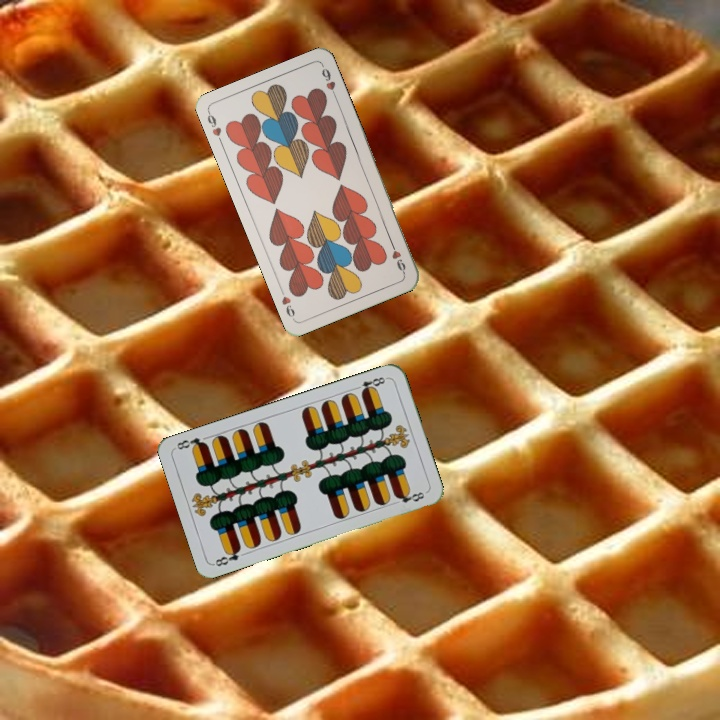E8: (350, 373, 390, 396), (210, 543, 244, 569)
H9: (386, 237, 408, 276), (203, 108, 225, 147)
